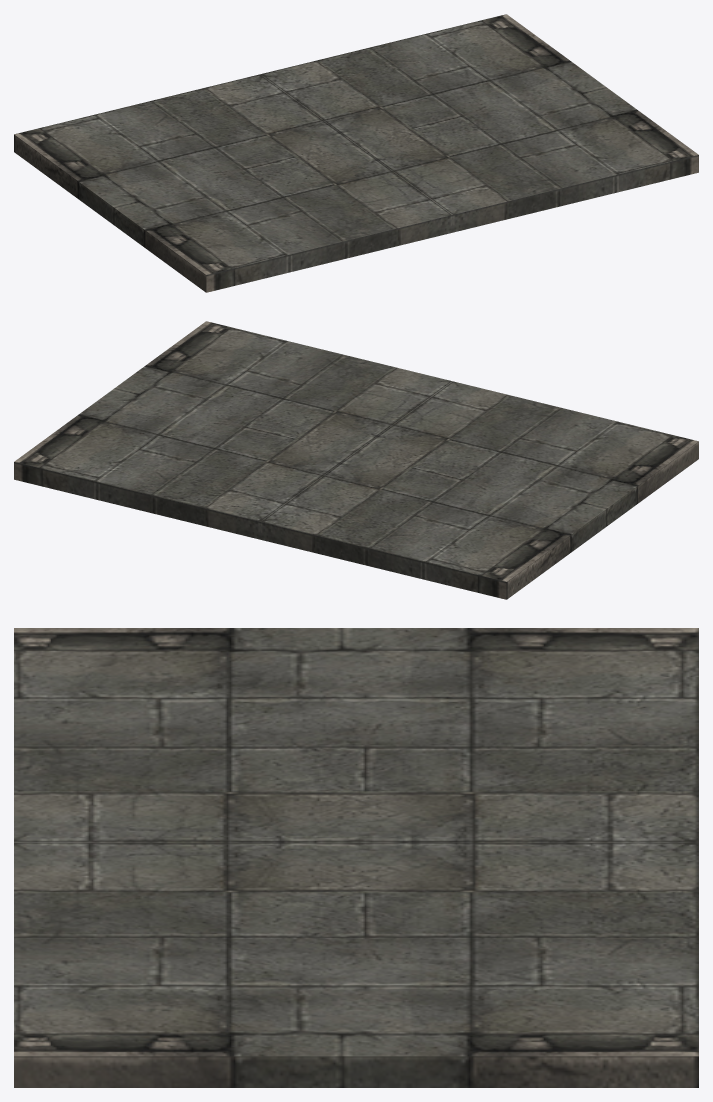
The picture shows the model from 3 angles, top to bottom: view 1: azimuth 30°, elevation 25°; view 2: azimuth 150°, elevation 25°; view 3: azimuth 270°, elevation 25°; orthographic projection. The views are drawn at different scales.
Parts seen in each view (by area): view 1: object39; view 2: object39; view 3: object39.
Boxes of the visible parts, x1,y1,x2,y2 form: object39: (14,14,698,292); object39: (14,321,698,599); object39: (14,628,698,1087).
Bounding box in the file's own units: 595 × 20.46 × 402.
